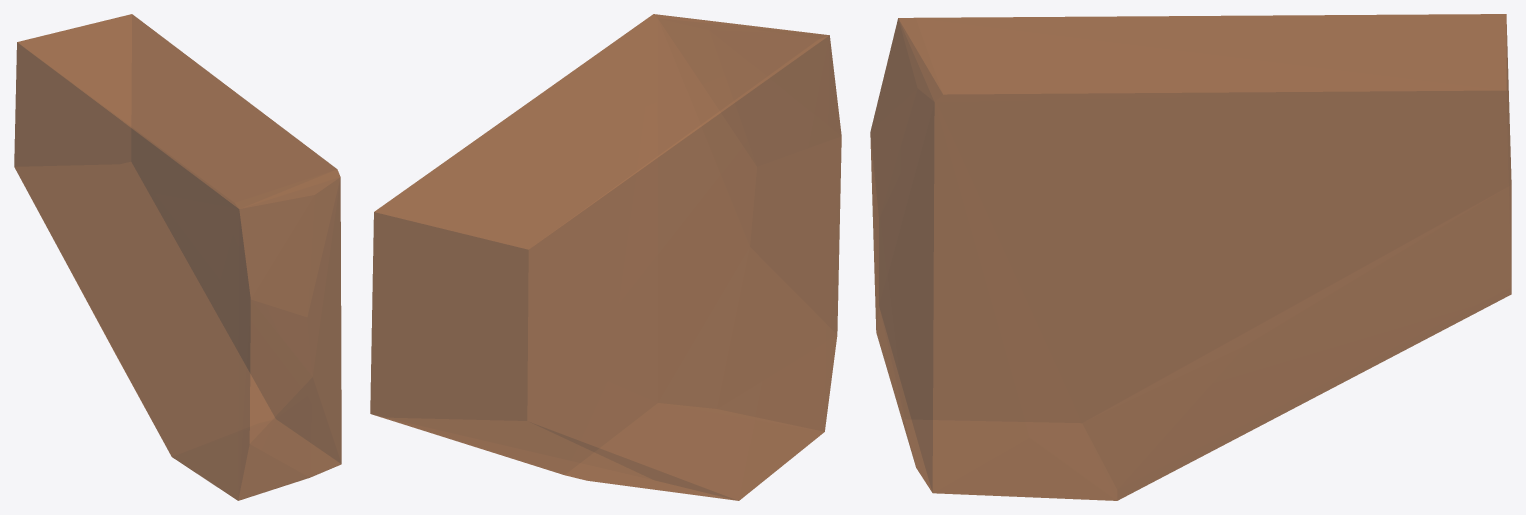
The picture shows the model from 3 angles, left to right: view 1: azimuth 30°, elevation 25°; view 2: azimuth 150°, elevation 25°; view 3: azimuth 270°, elevation 25°; orthographic projection. The views are drawn at different scales.
Visible parts, largest first — view 1: Shape_IndexedFaceSet.005_Shape_IndexedFaceSet.5681; view 2: Shape_IndexedFaceSet.005_Shape_IndexedFaceSet.5681; view 3: Shape_IndexedFaceSet.005_Shape_IndexedFaceSet.5681.
Part boxes in pixels (box(x1,y1,x2,y2)): Shape_IndexedFaceSet.005_Shape_IndexedFaceSet.5681: box(14, 14, 341, 500); Shape_IndexedFaceSet.005_Shape_IndexedFaceSet.5681: box(370, 14, 841, 500); Shape_IndexedFaceSet.005_Shape_IndexedFaceSet.5681: box(870, 14, 1511, 500).
Size of the model in its own units: 0.0663 by 0.1629 by 0.231.
